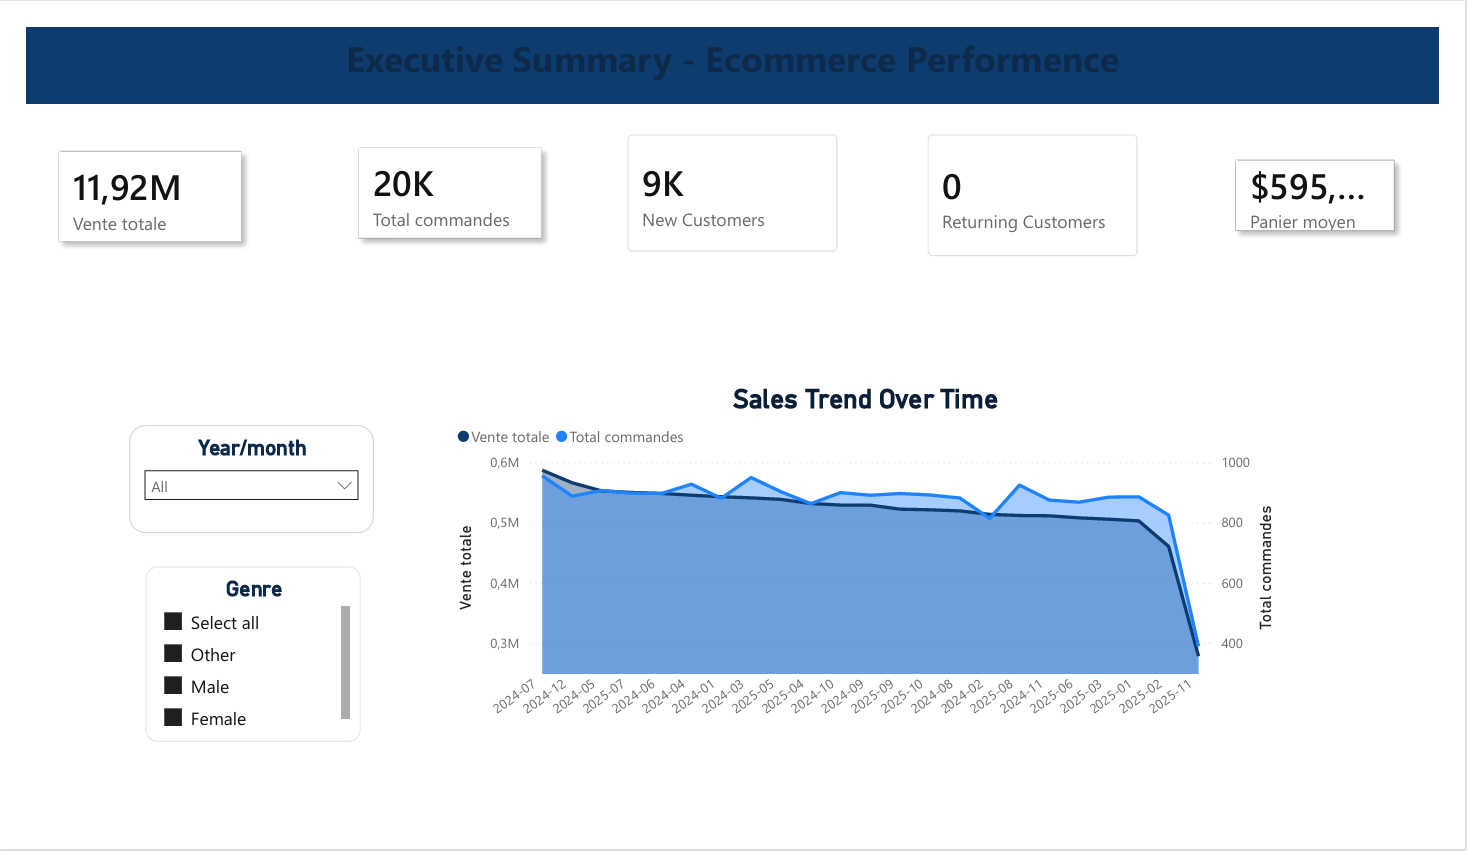

Layout of this report page (visuals, bound fields, positions):
{"tool":"powerbi","page":{"name":"Executive Summary","canvas":[1280,720],"ordinal":0},"visuals":[{"type":"cardVisual","fields":{"Data":["_Measures.Panier moyen"]},"box":[1056,80,224,144],"z":0,"group":"g1"},{"type":"lineChart","title":"Sales Trend Over Time","fields":{"Category":["DimDate.YearMonth"],"Y":["_Measures.Vente totale"],"Y2":["_Measures.Total commandes"]},"box":[385.3,322.7,750.9,320],"z":0},{"type":"cardVisual","fields":{"Data":["_Measures.Total commandes"]},"box":[272,80,224,140],"z":1000,"group":"g1"},{"type":"slicer","title":"Year/month","fields":{"Values":["DimDate.YearMonth"]},"box":[93.3,359.5,222.1,98.2],"z":1000},{"type":"cardVisual","fields":{"Data":["_Measures.Vente totale"]},"box":[0,82.7,224,140],"z":2000,"group":"g1"},{"type":"slicer","title":"Genre","fields":{"Values":["Users.gender"]},"box":[108,488.3,195.1,158.3],"z":2000},{"type":"textbox","box":[0,0,1279.8,68.7],"z":3000},{"type":"cardVisual","fields":{"Data":["_Measures.New Customers"]},"box":[528,80,224,140],"z":3000,"group":"g1"},{"type":"cardVisual","fields":{"Data":["_Measures.Returning Customers"]},"box":[800,80,224,144],"z":4000,"group":"g1"},{"type":"group","id":"g1","title":"Group 1","box":[0,80,1280,144],"z":4003}]}

Visuals, with their boxes on the page's 1280x720 design canvas (x1, y1, x2, y2). These are canvas units, not pixel positions in the 1467x851 screenshot, which may show the page scaled, cropped or inside an application window:
cardVisual - _Measures.Panier moyen: select_region(1056, 80, 1280, 224)
"Sales Trend Over Time" lineChart: select_region(385, 323, 1136, 643)
cardVisual - _Measures.Total commandes: select_region(272, 80, 496, 220)
"Year/month" slicer: select_region(93, 360, 315, 458)
cardVisual - _Measures.Vente totale: select_region(0, 83, 224, 223)
"Genre" slicer: select_region(108, 488, 303, 647)
textbox: select_region(0, 0, 1280, 69)
cardVisual - _Measures.New Customers: select_region(528, 80, 752, 220)
cardVisual - _Measures.Returning Customers: select_region(800, 80, 1024, 224)
"Group 1" group: select_region(0, 80, 1280, 224)
